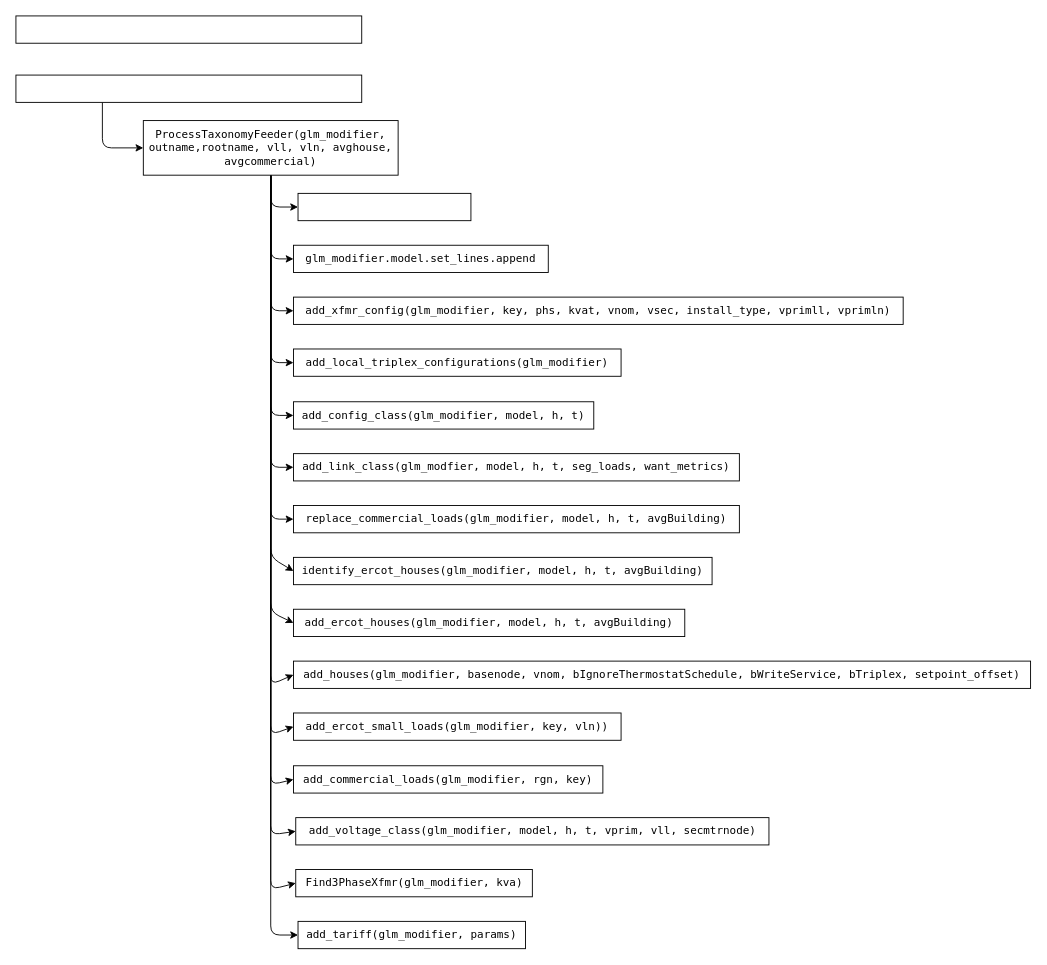
Image size: 1047x965. Some labels were removed from this diagram. The shapes that lost their labels are listed below. From the top down, each one's centre as x and y in pixels, then its label:
At point 188,29: "initialize_glm_modifier(glmfilepath) -> glmMod".
At point 188,88: "populate_all_feeders(glm_modifier, outpath) -> None".
At point 384,206: "glm_modifier.add_module".
